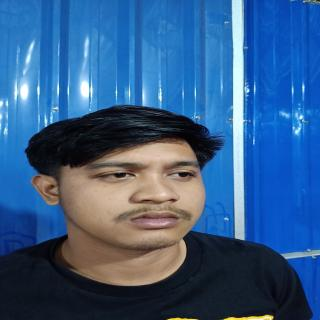Sedih: (54, 135, 219, 253)
